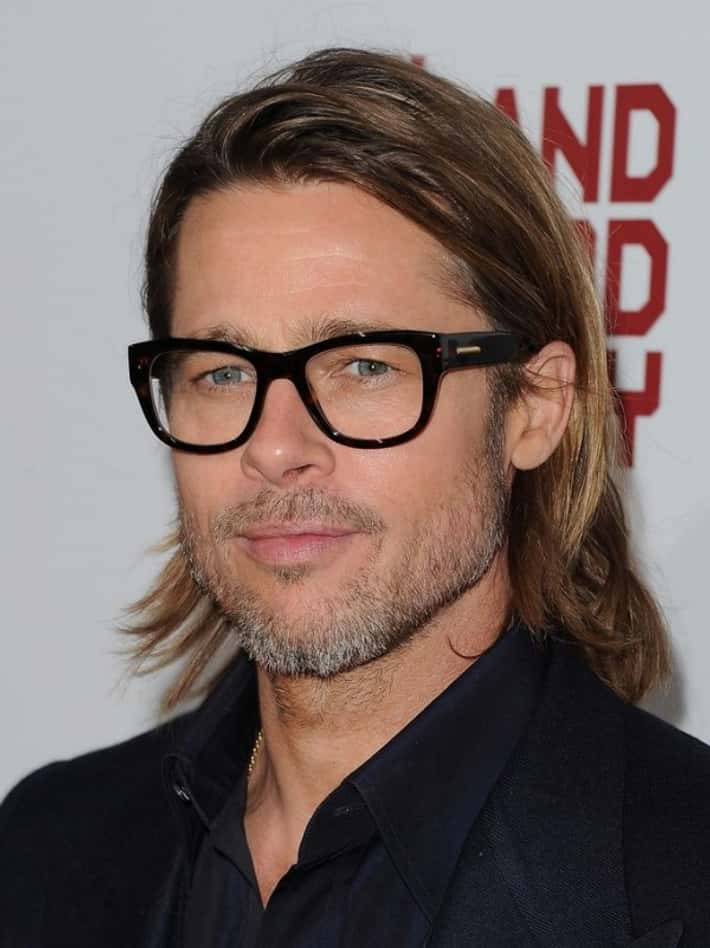Glasses: (115, 324, 564, 461)
